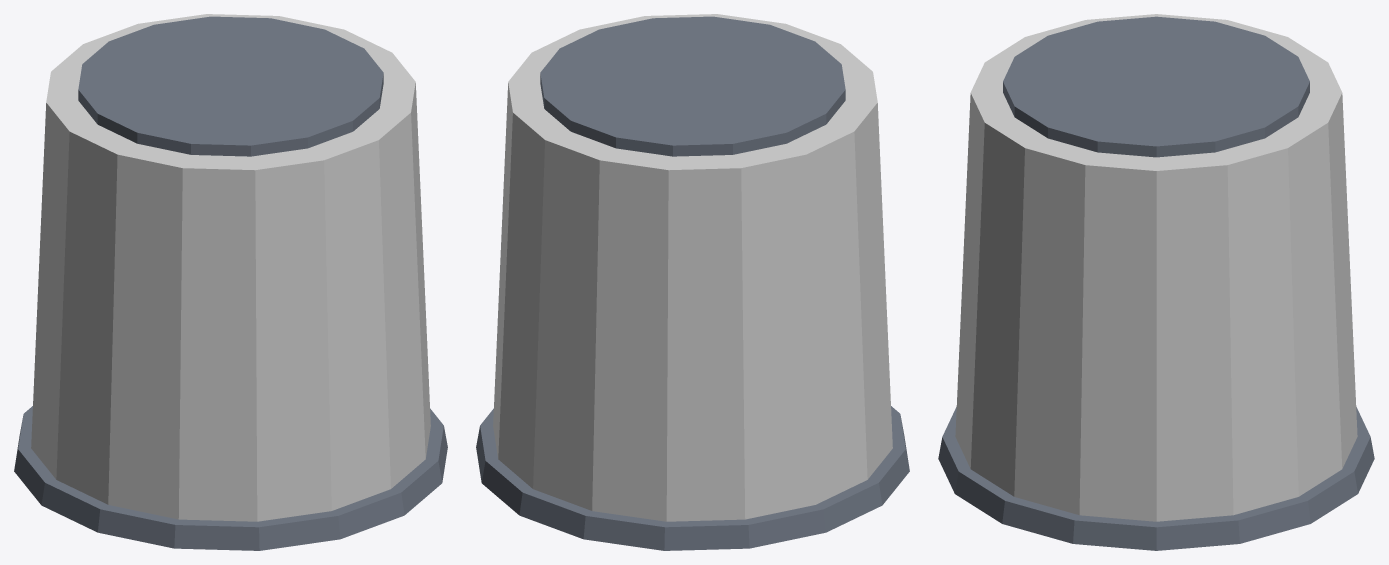
Rendered from bldg_cylinder.glb.
3 views of the same model, side by side, from view 1: azimuth 30°, elevation 25°; view 2: azimuth 150°, elevation 25°; view 3: azimuth 270°, elevation 25° (orthographic).
Visible parts, largest first — view 1: bldg_cylinder; view 2: bldg_cylinder; view 3: bldg_cylinder.
Boxes of the visible parts, left/top/right/bottom form: bldg_cylinder: left=14, top=14, right=447, bottom=550; bldg_cylinder: left=476, top=14, right=909, bottom=550; bldg_cylinder: left=938, top=14, right=1374, bottom=550.
Bounding box in the file's own units: 1.08 × 1.03 × 1.08.
